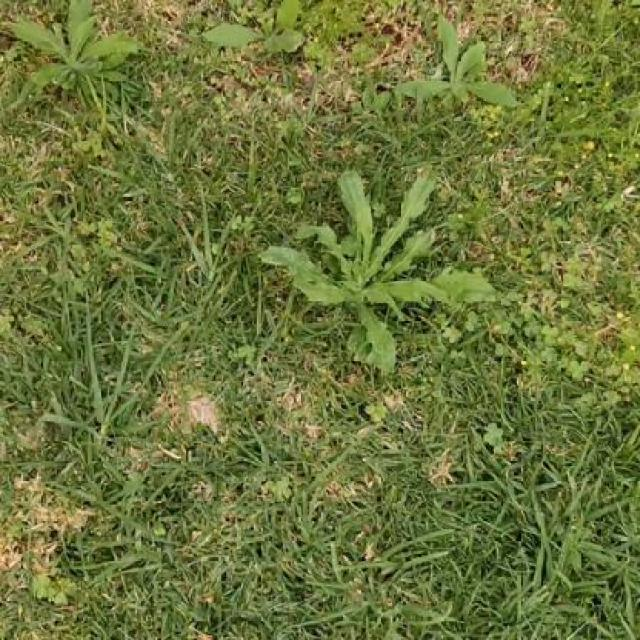weed: (262, 171, 495, 373), (14, 0, 140, 102), (394, 17, 515, 105), (203, 0, 303, 53)
